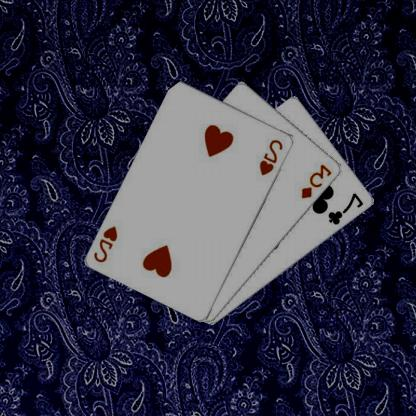2H: (93, 223, 121, 264), (259, 136, 286, 176)
3D: (300, 161, 335, 200)
7C: (327, 191, 367, 226)
